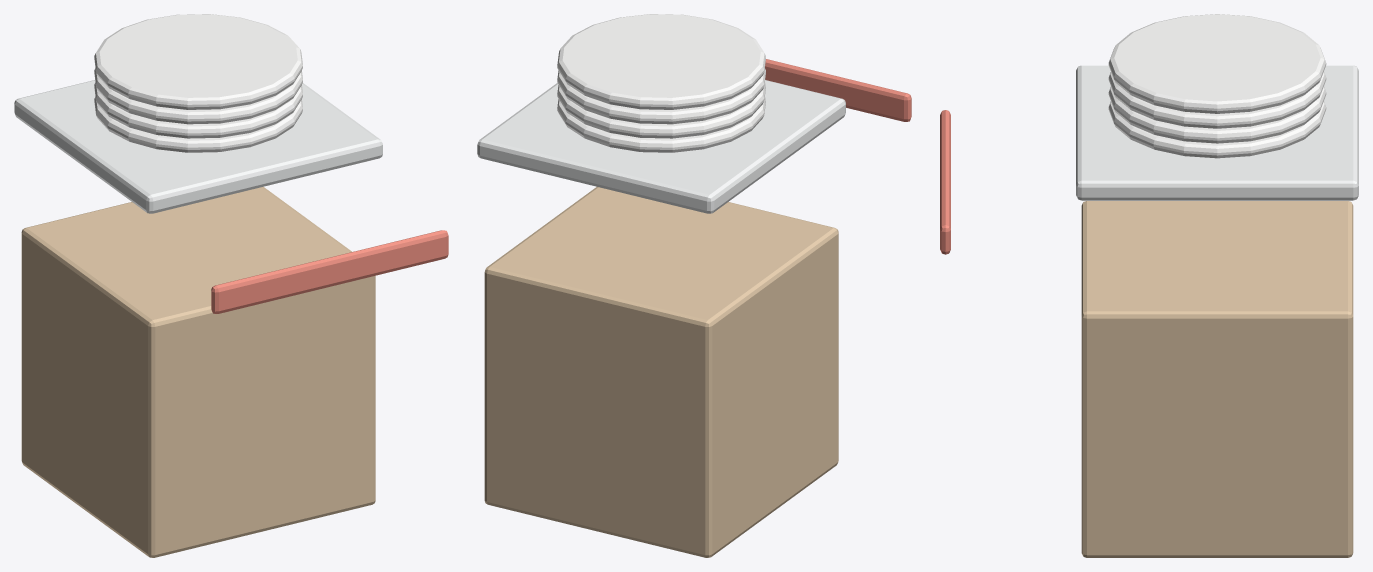
Rendered from SM_PlateStation.glb.
3 renders of one model, left to right at view 1: azimuth 30°, elevation 25°; view 2: azimuth 150°, elevation 25°; view 3: azimuth 270°, elevation 25°, orthographic. The views are drawn at different scales.
Visible parts, largest first — view 1: SM_PlateStation; view 2: SM_PlateStation; view 3: SM_PlateStation.
Part boxes in pixels (x1,y1,x2,y2): SM_PlateStation: (14,14,448,557); SM_PlateStation: (477,14,911,557); SM_PlateStation: (940,14,1358,557).
Bounding box in the file's own units: 0.52 × 0.9025 × 0.77.
